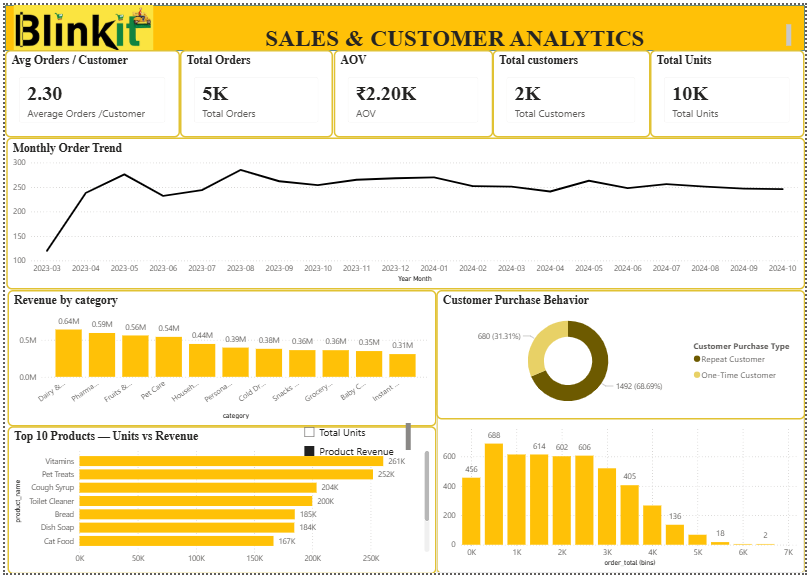

The dashboard page shown, as its layout file describes it:
{"tool":"powerbi","page":{"name":"Sales and Customer Analytics ","canvas":[1280,910],"ordinal":1},"visuals":[{"type":"shape","box":[0,0,1280,73.3],"z":0},{"type":"textbox","box":[185,25,1076.7,48.3],"z":1000},{"type":"image","box":[1.7,0,246.7,73.3],"z":2000},{"type":"cardVisual","title":"Avg Orders / Customer","fields":{"Data":["customers.Average Orders per Customer"]},"box":[0,72.5,280,140],"z":3000},{"type":"cardVisual","title":"Total  Orders","fields":{"Data":["DateTable.Total Orders"]},"box":[280,72.5,245,140],"z":4000},{"type":"cardVisual","title":"AOV","fields":{"Data":["DateTable.AOV"]},"box":[525,72.5,255,140],"z":5000},{"type":"cardVisual","title":"Total customers","fields":{"Data":["DateTable.Total Customers"]},"box":[780,72.5,252.5,140],"z":6000},{"type":"cardVisual","title":"Total Units","fields":{"Data":["DateTable.Total Units"]},"box":[1032.5,72.5,247.5,140],"z":7000},{"type":"clusteredColumnChart","title":" Revenue by category","fields":{"Y":["products.Product Revenue"],"Category":["products.category"]},"box":[3.3,455,686.7,218.3],"z":8000},{"type":"clusteredBarChart","title":"Top 10 Products — Units vs Revenue","fields":{"Y":["products.Product Revenue"],"Category":["products.product_name"]},"box":[3.3,673.3,686.7,236.7],"z":9000},{"type":"lineChart","title":"Monthly Order Trend","fields":{"Category":["DateTable.Year Month"],"Y":["DateTable.Total Orders"]},"box":[1.7,211.7,1278.3,243.3],"z":10000},{"type":"slicer","fields":{"Values":["Top Product Metric.Top Product Metric"]},"box":[465,663.3,188.3,65],"z":11000},{"type":"clusteredColumnChart","title":"Order Value Distribution","fields":{"Category":["Orders.order_total (bins)"],"Y":["DateTable.Total Orders"]},"box":[690,640,590,270],"z":12000},{"type":"donutChart","title":"Customer Purchase Behavior","fields":{"Category":["customers.Customer Purchase Type"],"Y":["DateTable.Total Customers"]},"box":[690,455,590,207.5],"z":13000}]}

Visuals, with their boxes in screenshot pixels (x1, y1, x2, y2), scaled from the page's 1280x910 canvas onto the 811x576 screenshot:
shape: 0:0:810:46
textbox: 117:16:799:46
image: 1:0:157:46
"Avg Orders / Customer" cardVisual: 0:46:177:135
"Total  Orders" cardVisual: 177:46:333:135
"AOV" cardVisual: 333:46:494:135
"Total customers" cardVisual: 494:46:654:135
"Total Units" cardVisual: 654:46:810:135
" Revenue by category" clusteredColumnChart: 2:288:437:426
"Top 10 Products — Units vs Revenue" clusteredBarChart: 2:426:437:575
"Monthly Order Trend" lineChart: 1:134:810:288
slicer - Top Product Metric.Top Product Metric: 295:420:414:461
"Order Value Distribution" clusteredColumnChart: 437:405:810:575
"Customer Purchase Behavior" donutChart: 437:288:810:419
